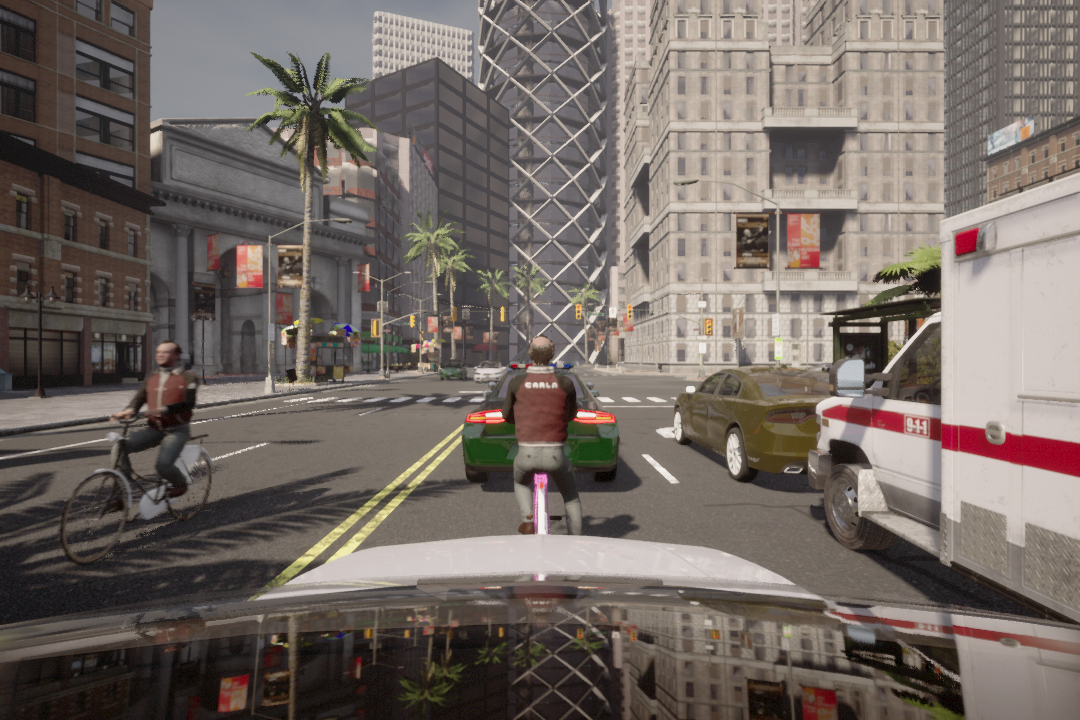TrafficLight: (701, 315, 715, 337), (626, 302, 635, 319), (575, 302, 583, 321)
walkside: (274, 391, 724, 407)
